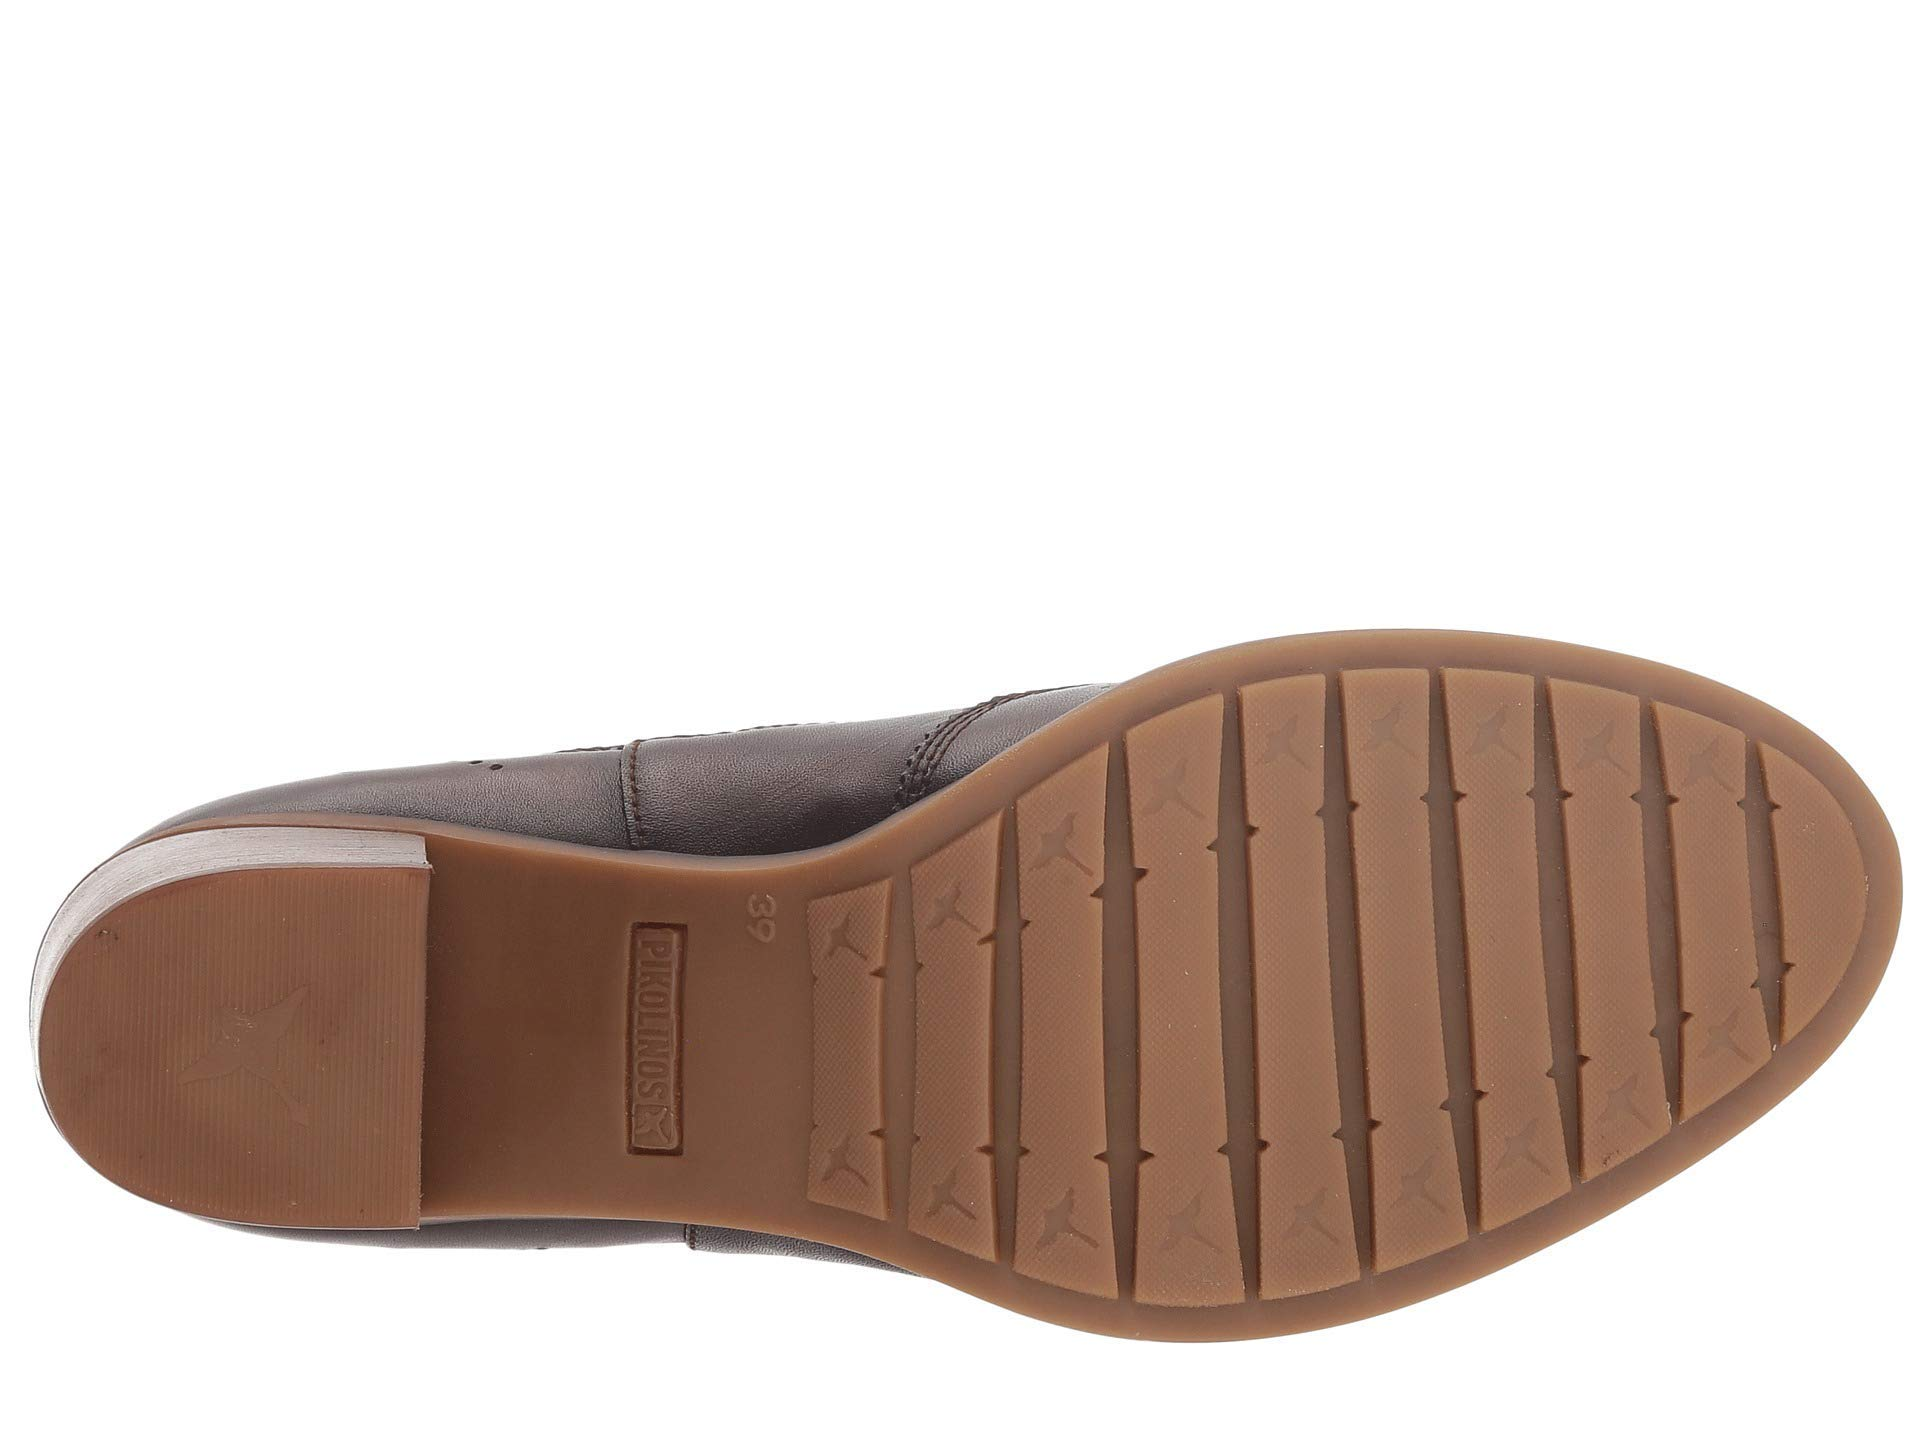bowtie: (1329, 649, 1593, 970), (1346, 1050, 1642, 1295)
circle: (574, 903, 788, 1195)
line: (133, 903, 386, 1172)
quad: (574, 903, 788, 1195)
star: (1329, 649, 1593, 970), (1346, 1050, 1642, 1295), (133, 903, 386, 1172), (993, 796, 1119, 895), (1259, 1181, 1349, 1271), (1370, 1141, 1457, 1230), (1344, 690, 1432, 774), (1453, 688, 1538, 773), (1556, 700, 1639, 785), (1665, 712, 1743, 802), (1128, 765, 1214, 844), (1241, 705, 1324, 785), (1485, 1113, 1565, 1193), (1584, 1069, 1658, 1144)
text: (574, 903, 788, 1195)
